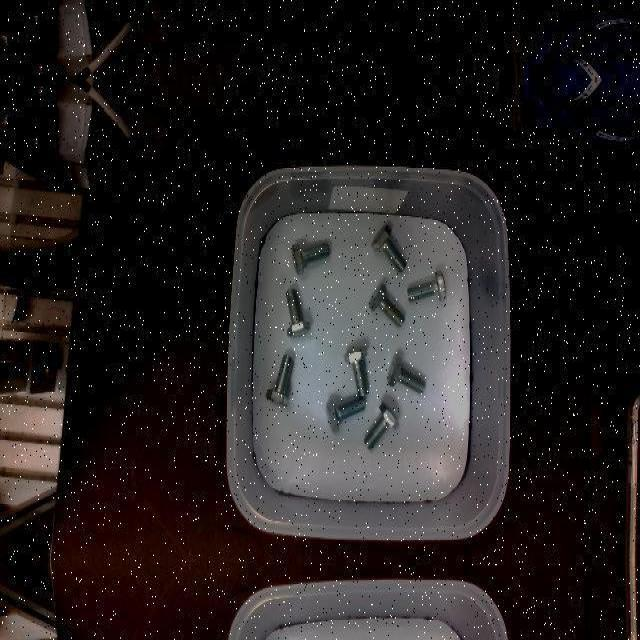screw: (363, 401, 399, 451), (371, 224, 407, 272), (368, 282, 405, 326), (387, 355, 425, 393), (266, 354, 293, 406), (325, 397, 365, 431), (407, 269, 446, 303), (286, 287, 311, 337), (291, 242, 329, 274), (343, 347, 367, 397)
